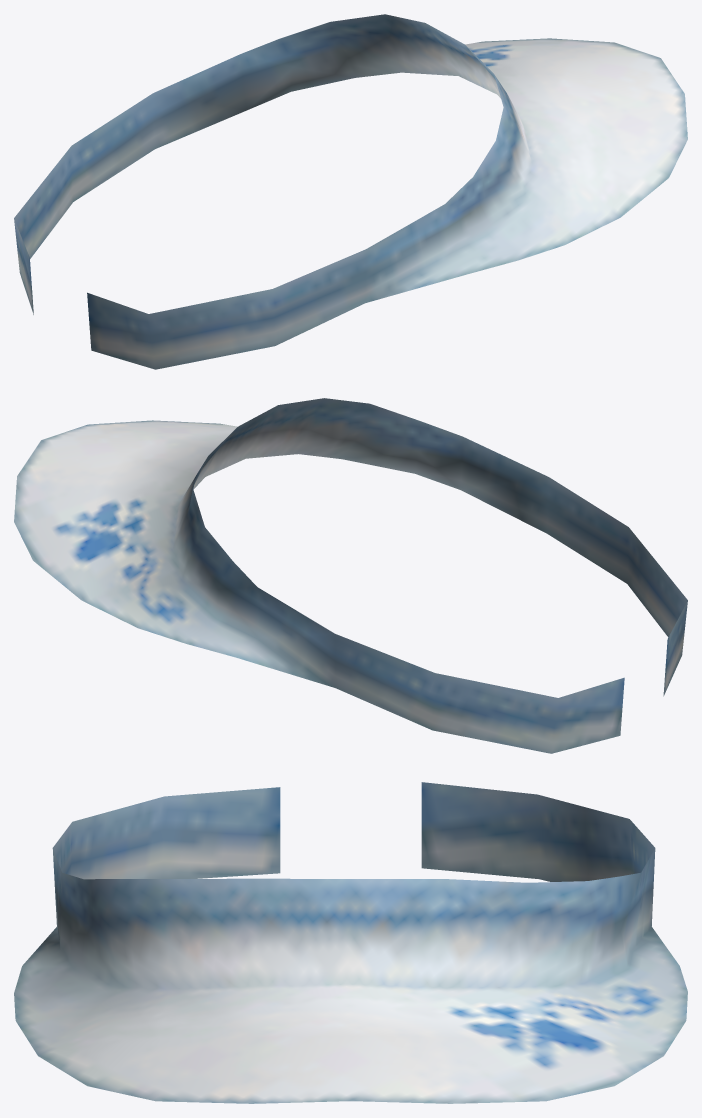
The model's file is hat_0450060.FBX.
3 renders of one model, top to bottom at view 1: azimuth 30°, elevation 25°; view 2: azimuth 150°, elevation 25°; view 3: azimuth 270°, elevation 25°, orthographic. The views are drawn at different scales.
Parts seen in each view (by area): view 1: hat_0450060; view 2: hat_0450060; view 3: hat_0450060.
Boxes of the visible parts, box(x1,y1,x2,y2) form: hat_0450060: box(14, 14, 687, 369); hat_0450060: box(14, 398, 687, 753); hat_0450060: box(14, 782, 687, 1103).
Bounding box in the file's own units: 34.4 × 10.33 × 23.43.
